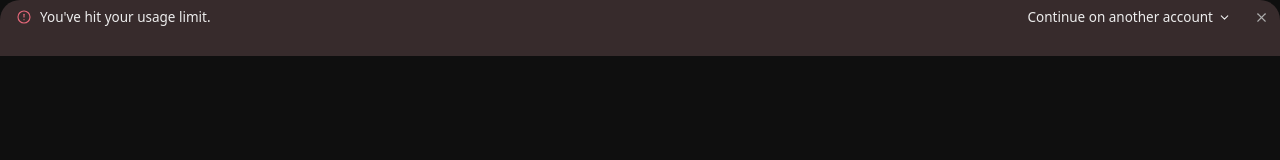
Test: ComposerErrors › offers several places to go as a menu and runs the one chosen
Later steps or results of the test are not shown.
Click the button "Continue on another account": point(1129, 17) [1018, 4, 1241, 30]
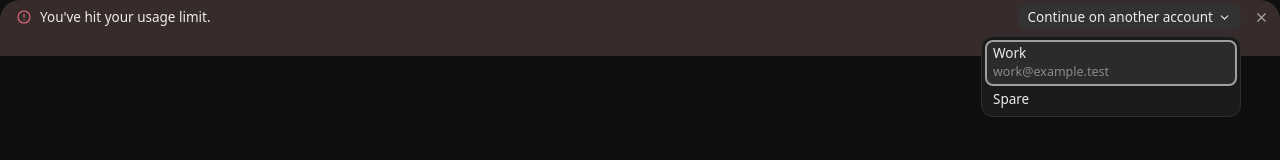
Now the text "work@example.test" is shown, box [993, 63, 1109, 80]
